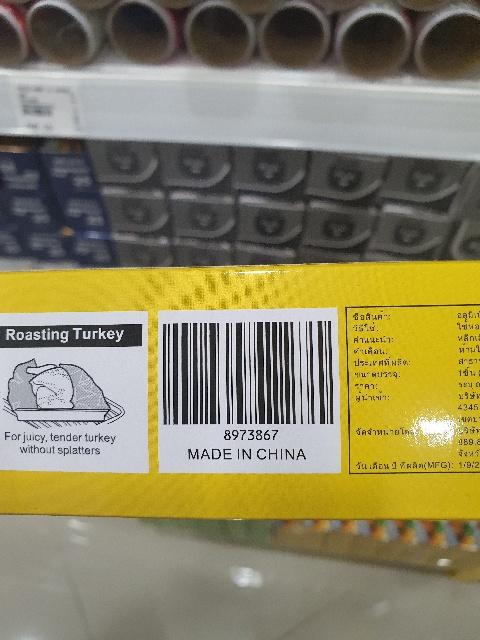Barcode: (159, 316, 339, 441)
